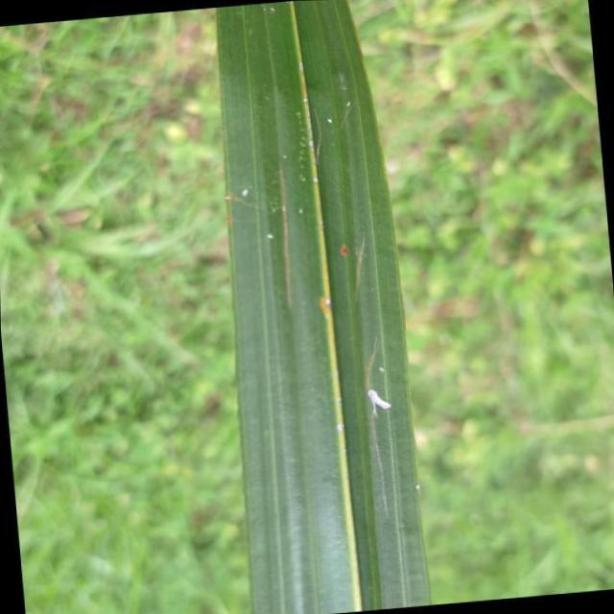Boron: (217, 0, 427, 614)
